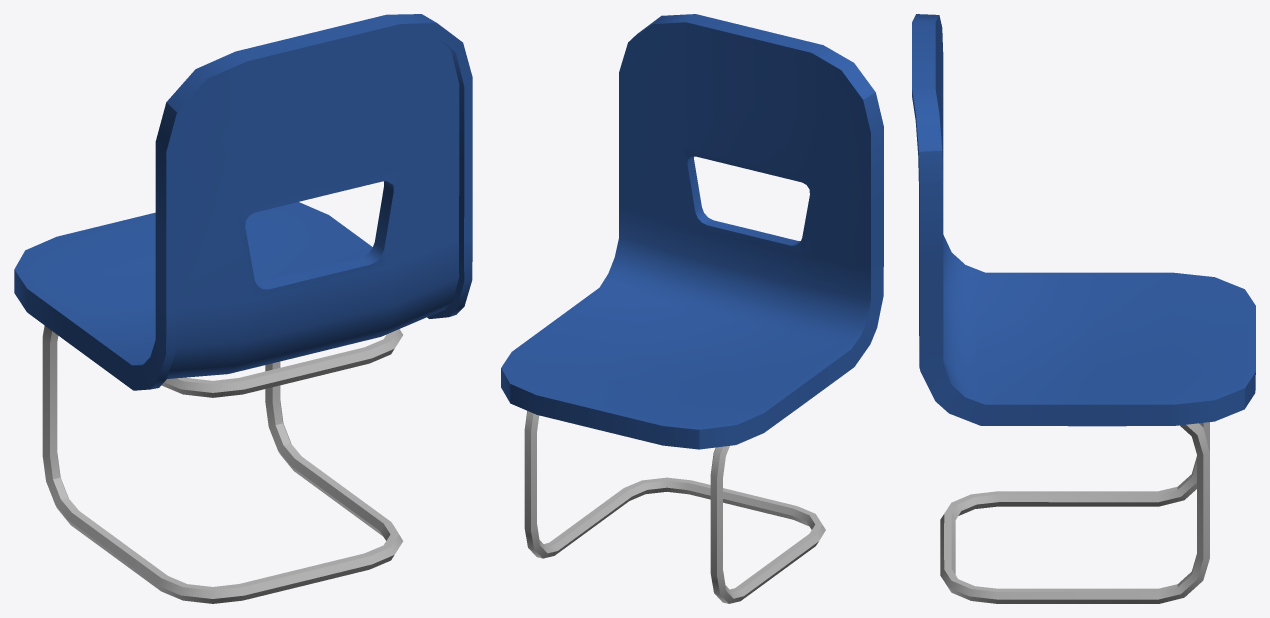
The model's file is Chair_Plastic_03.glb.
3 views of the same model, side by side, from view 1: azimuth 30°, elevation 25°; view 2: azimuth 150°, elevation 25°; view 3: azimuth 270°, elevation 25° (orthographic). The views are drawn at different scales.
Visible parts, largest first — view 1: Mesh_Chair_Plastic_03; view 2: Mesh_Chair_Plastic_03; view 3: Mesh_Chair_Plastic_03.
Part boxes in pixels (x1,y1,x2,y2): Mesh_Chair_Plastic_03: (14,14,472,603); Mesh_Chair_Plastic_03: (501,14,883,603); Mesh_Chair_Plastic_03: (912,14,1255,603).
Size of the model in its own units: 0.4882 by 0.8442 by 0.528.
1 material, 1 textured.
